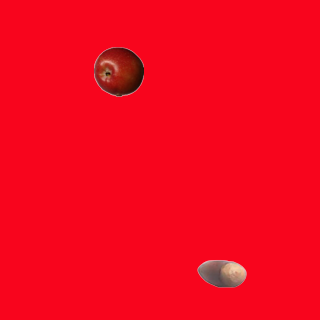Apple Braeburn: (93, 46, 143, 96)
Hazelnut: (196, 248, 246, 298)
